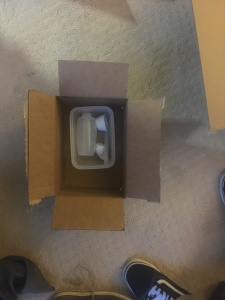innerbox: (55, 95, 127, 199)
outerbox: (27, 62, 160, 229)
product: (69, 108, 115, 168)
